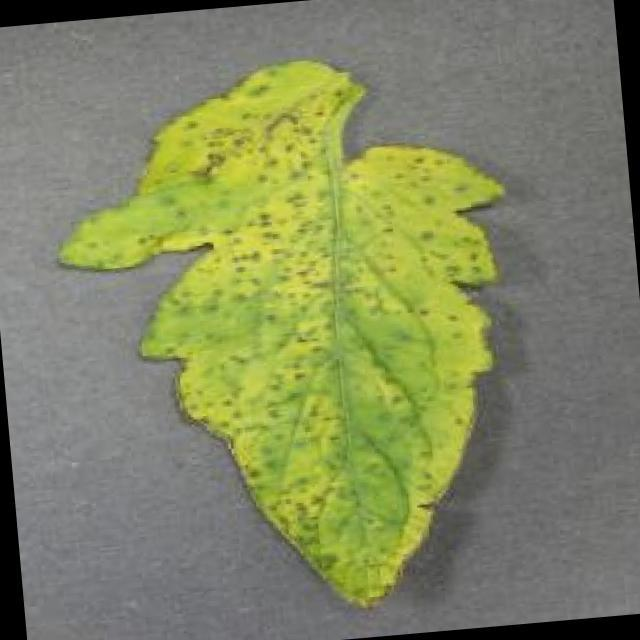Tomato bacterial spot leaf: (28, 42, 545, 640)
